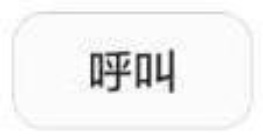Button: (1, 1, 262, 139)
